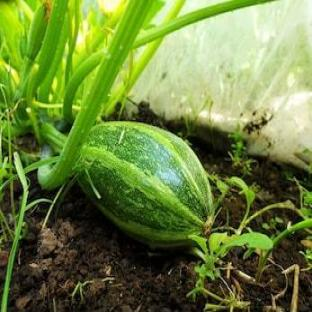Zucchini: (76, 122, 213, 248)
